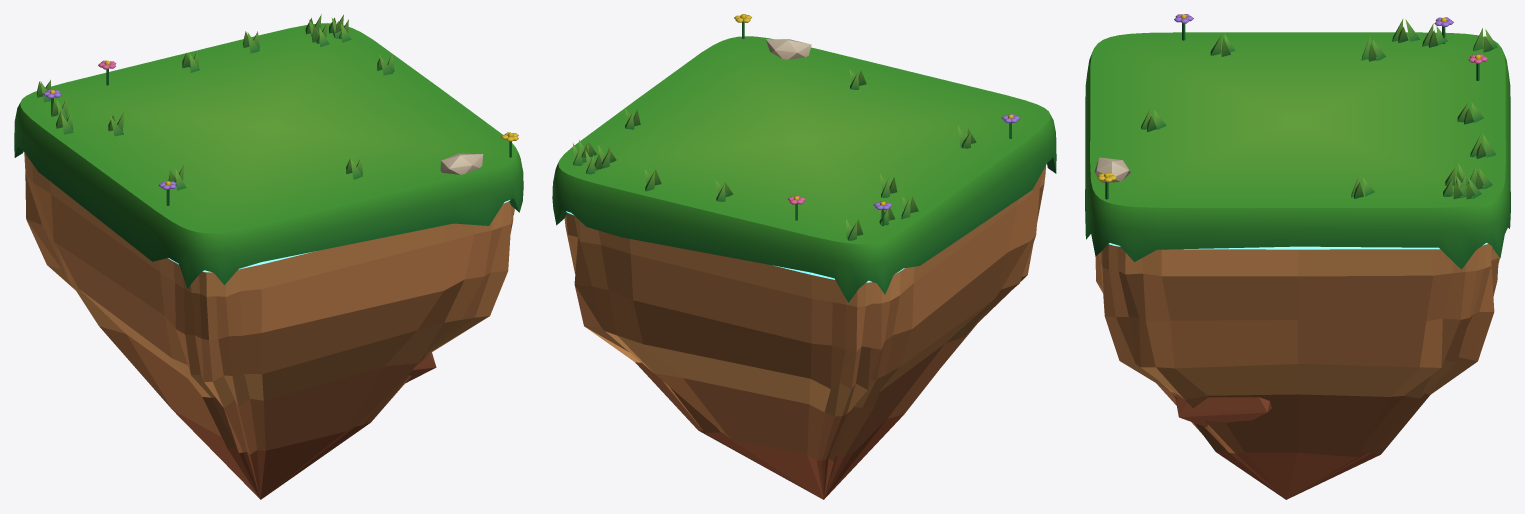
The model's file is PLAT_Isle_S.glb.
3 views of the same model, side by side, from view 1: azimuth 30°, elevation 25°; view 2: azimuth 150°, elevation 25°; view 3: azimuth 270°, elevation 25° (orthographic). The views are drawn at different scales.
Visible parts, largest first — view 1: Ground; view 2: Ground; view 3: Ground, EdgeGlow.
Boxes of the visible parts, x1,y1,x2,y2 form: Ground: [14, 14, 523, 499]; Ground: [552, 14, 1056, 499]; Ground: [1085, 14, 1510, 499]; EdgeGlow: [1109, 243, 1487, 249].
Bounding box in the file's own units: 3.07 × 3.28 × 3.07.
